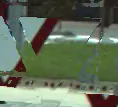Give way: (3, 2, 72, 103)
